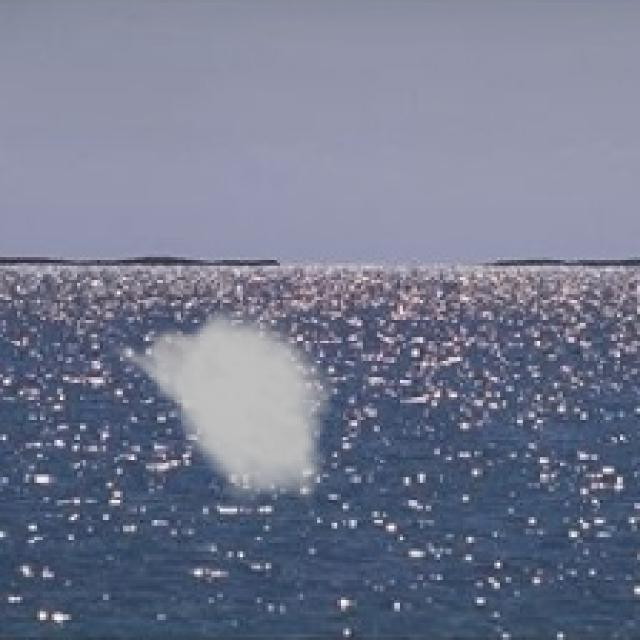Smoke: (102, 303, 338, 512)
